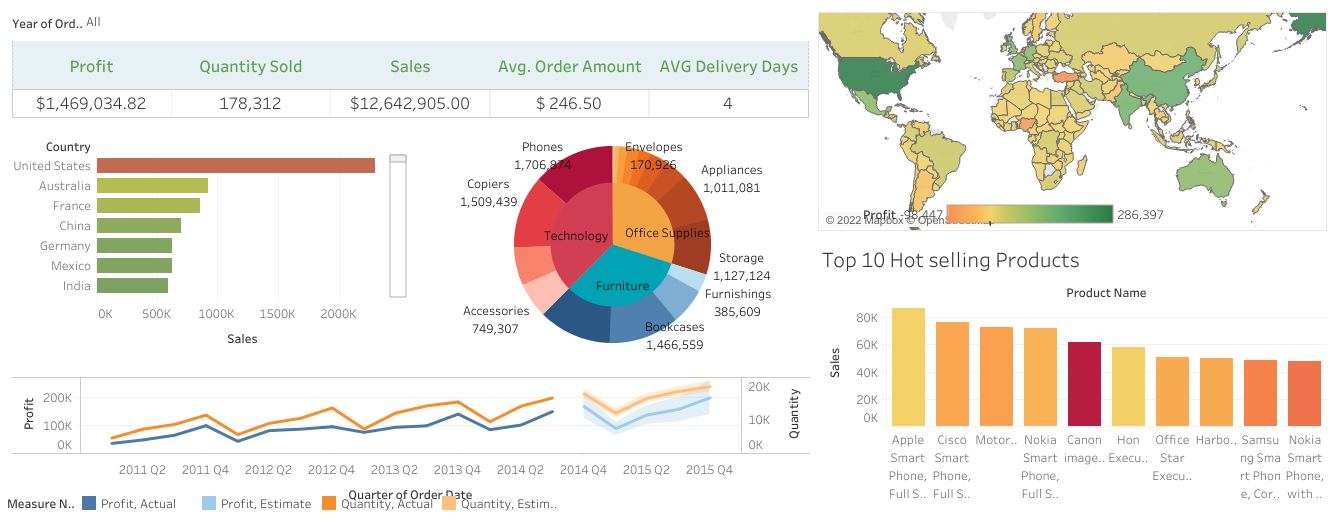

Layout of this report page (visuals, bound fields, positions):
{"tool":"tableau","page":{"name":"Dashboard 1","canvas":[1000,1000],"units":"permille","ordinal":0},"visuals":[{"type":"filter","title":"Sheet 2","param":"[federated.10g2vzu140ey1t12qj2ms160szrj].[yr:order_date:ok]","box":[6,13.5,601.9,55.7]},{"type":"worksheet","title":"Sheet 2","mark":"Multipolygon","box":[607.8,13.5,386.2,435.8]},{"type":"worksheet","title":"Sheet 1","mark":"Automatic","box":[6,69.2,601.9,180.8]},{"type":"worksheet","title":"Sheet 9","mark":"Automatic","rows":["country"],"cols":["sales"],"box":[6,250,300.9,435.8]},{"type":"worksheet","title":"Sheet 8","mark":"Pie","cols":["Calculation_975310834792816649","Calculation_975310834792816649"],"box":[306.9,250,300.9,435.8]},{"type":"legend","title":"Sheet 2","param":"[federated.10g2vzu140ey1t12qj2ms160szrj].[sum:profit:qk]","box":[615.7,385.1,257.5,49]},{"type":"worksheet","title":"Sheet 4","mark":"Automatic","rows":["sales"],"cols":["product_name"],"box":[607.8,449.3,386.2,537.2]},{"type":"worksheet","title":"Sheet 3","mark":"Automatic","rows":["profit","quantity"],"cols":["order_date"],"box":[6,685.8,601.9,300.7]},{"type":"legend","title":"Sheet 3","param":"[federated.10g2vzu140ey1t12qj2ms160szrj].[:Measure Names]\n[federated.10g2vzu140e","box":[5,942.6,516,45.6]}]}

Visuals, with their boxes on the dashboard's canvas, which has no fixed pixel size, in thousandths of its width and height (x1, y1, x2, y2). These are canvas units, not pixel positions in the 1338x522 screenshot, which may show the page scaled, cropped or inside an application window:
"Sheet 2" filter: 6,14,608,69
"Sheet 2" worksheet (Multipolygon marks): 608,14,994,449
"Sheet 1" worksheet: 6,69,608,250
"Sheet 9" worksheet: 6,250,307,686
"Sheet 8" worksheet (Pie marks): 307,250,608,686
"Sheet 2" legend: 616,385,873,434
"Sheet 4" worksheet: 608,449,994,986
"Sheet 3" worksheet: 6,686,608,986
"Sheet 3" legend: 5,943,521,988
